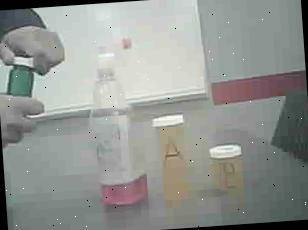Bottle A: (152, 106, 204, 207)
Bottle B: (209, 138, 249, 195)
Bottle C: (0, 37, 51, 117)
hazard: (82, 31, 154, 207)
